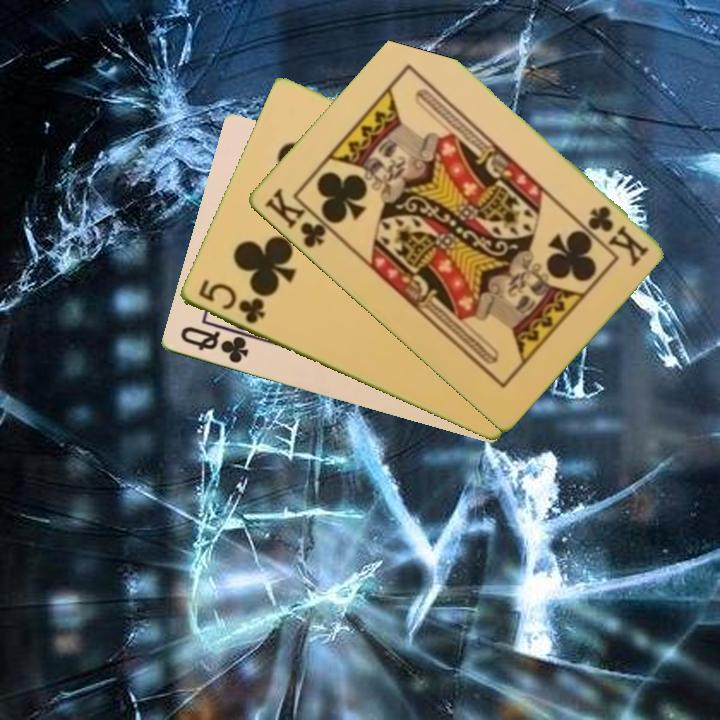5c: (194, 276, 268, 328)
Kc: (260, 184, 337, 252), (583, 202, 651, 268)
Qc: (176, 323, 251, 367)
